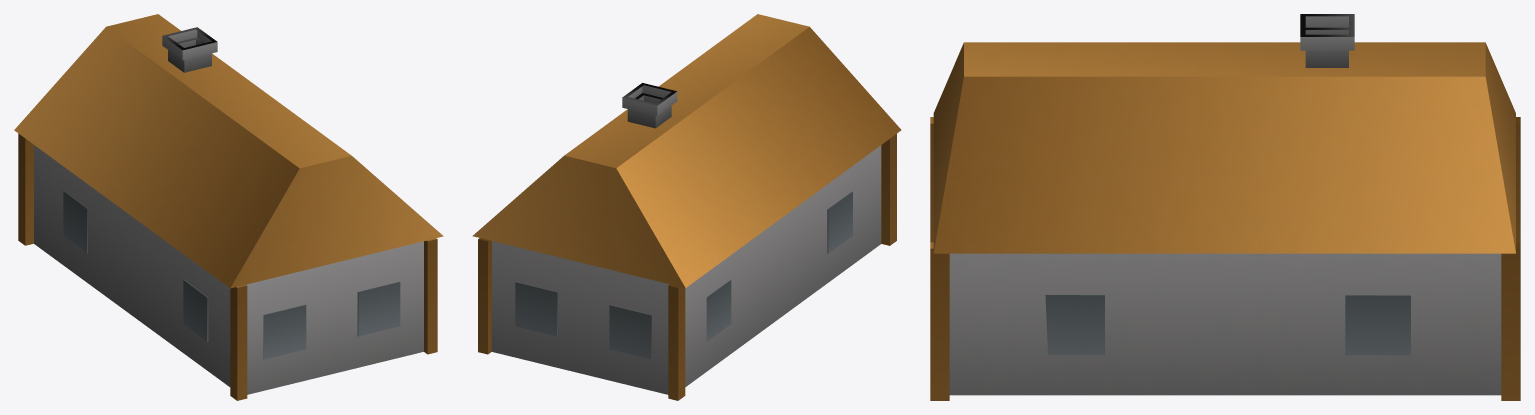
File: House1.fbx
The picture shows the model from 3 angles, left to right: view 1: azimuth 30°, elevation 25°; view 2: azimuth 150°, elevation 25°; view 3: azimuth 270°, elevation 25°; orthographic projection. The views are drawn at different scales.
Visible parts, largest first — view 1: Cube.003; view 2: Cube.003; view 3: Cube.003.
Boxes of the visible parts, box(x1,y1,x2,y2) form: Cube.003: box(14, 14, 443, 400); Cube.003: box(472, 14, 901, 400); Cube.003: box(930, 14, 1520, 400).
Bounding box in the file's own units: 700 × 719 × 1242.
